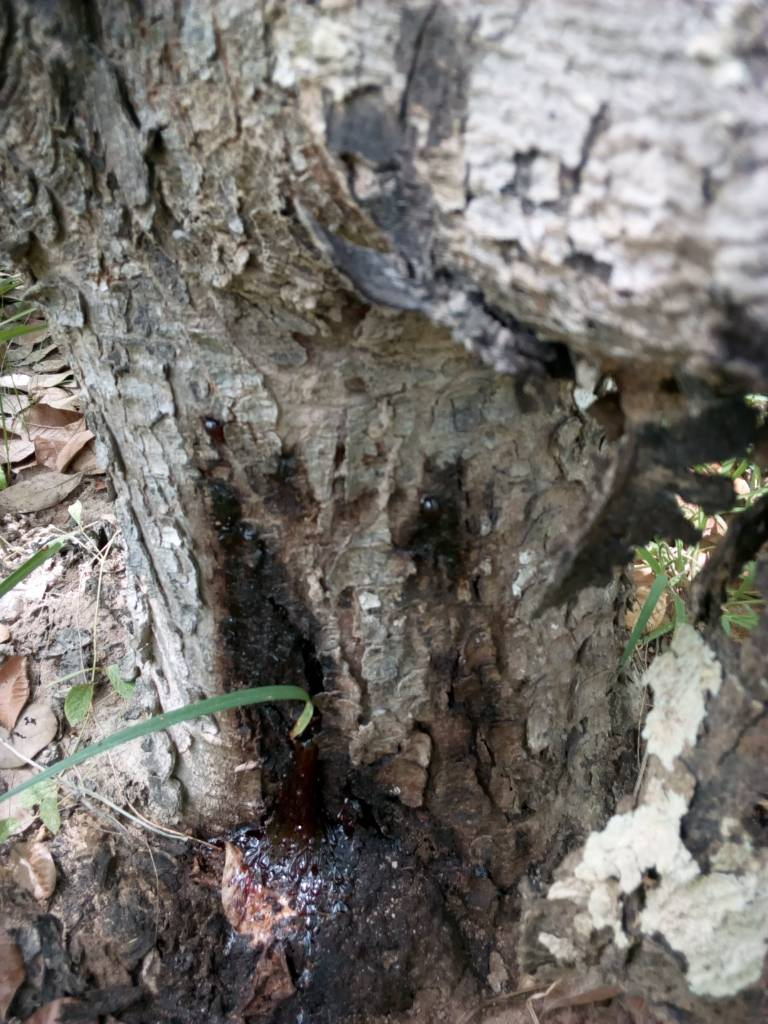Gommose: (215, 530, 415, 1019)
